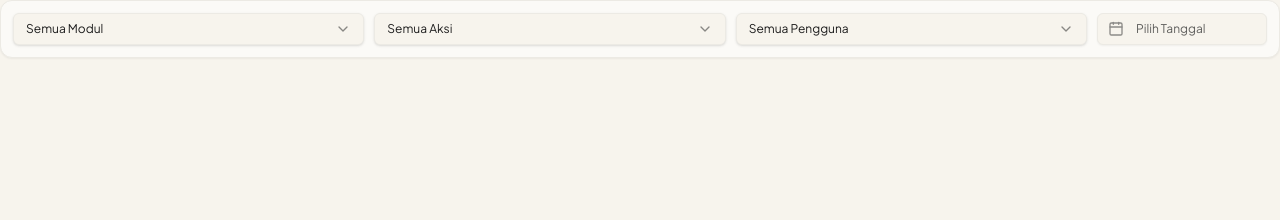
Test: AuditLogFilters Component › restricts module options for manager role
The width and height of the screenshot is (1280, 220).
Click the dropdown labelled "Modul" at (65, 28), box [13,13,364,45]
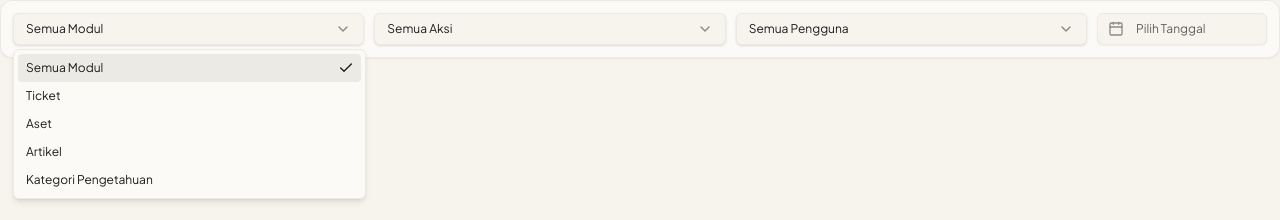
Result: the option "Ticket" is shown at [26,88,61,103]
Result: the option "Aset" is shown at [26,116,52,131]
Result: the option "Artikel" is shown at [26,144,62,159]
